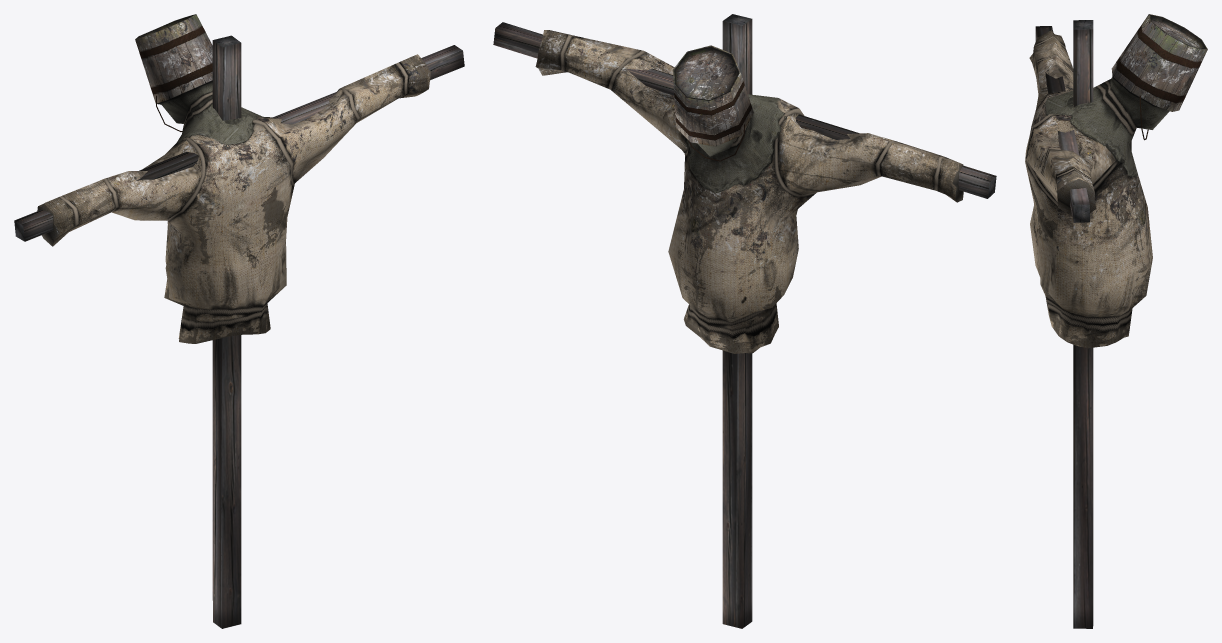
Rendered from scrawcrow.glb.
3 renders of one model, left to right at view 1: azimuth 30°, elevation 25°; view 2: azimuth 150°, elevation 25°; view 3: azimuth 270°, elevation 25°, orthographic. The views are drawn at different scales.
Parts seen in each view (by area): view 1: Object_2; view 2: Object_2; view 3: Object_2.
Boxes of the visible parts, x1,y1,x2,y2 form: Object_2: [14, 14, 464, 628]; Object_2: [493, 14, 996, 628]; Object_2: [1025, 14, 1207, 628].
Size of the model in its own units: 103 by 125 by 34.46.
Materials: 1 (1 with a texture image).
